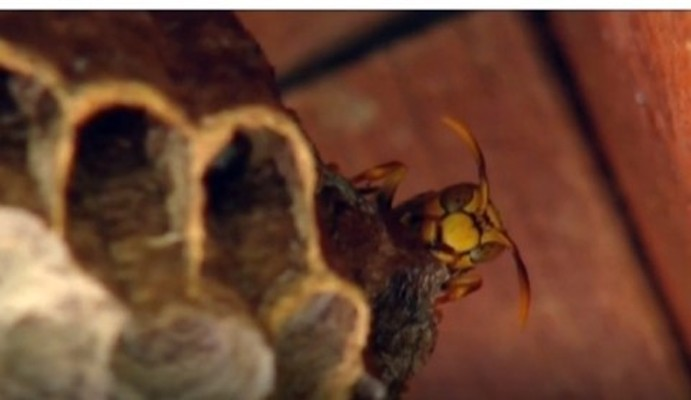asian_giant_hornet: (348, 112, 539, 323)
